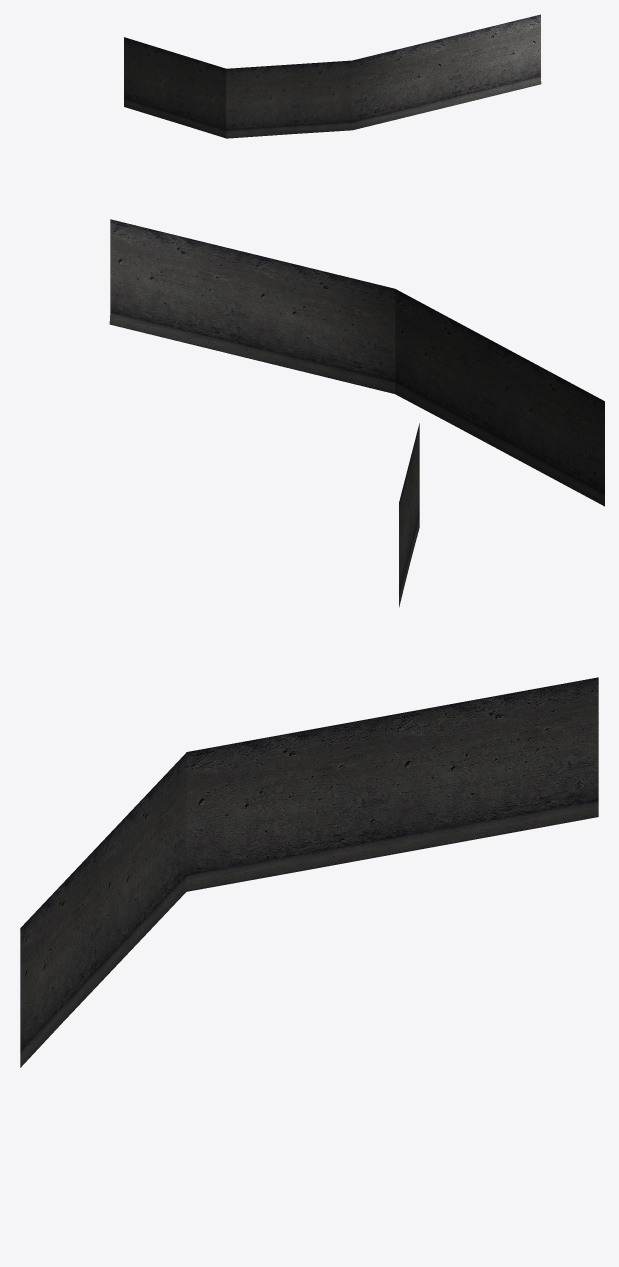
File: M10_Z01_04_BigWallC.glb
3 renders of one model, top to bottom at view 1: azimuth 30°, elevation 25°; view 2: azimuth 150°, elevation 25°; view 3: azimuth 270°, elevation 25°, orthographic. The views are drawn at different scales.
Visible parts, largest first — view 1: M10_Z01_04_BIGWALLC; view 2: M10_Z01_04_BIGWALLC; view 3: M10_Z01_04_BIGWALLC.
Boxes of the visible parts, x1,y1,x2,y2 form: M10_Z01_04_BIGWALLC: (124, 14, 541, 138); M10_Z01_04_BIGWALLC: (109, 219, 604, 607); M10_Z01_04_BIGWALLC: (20, 677, 598, 1067).
Size of the model in its own units: 56.79 by 8.49 by 31.87.
Materials: 2 (2 with a texture image).
